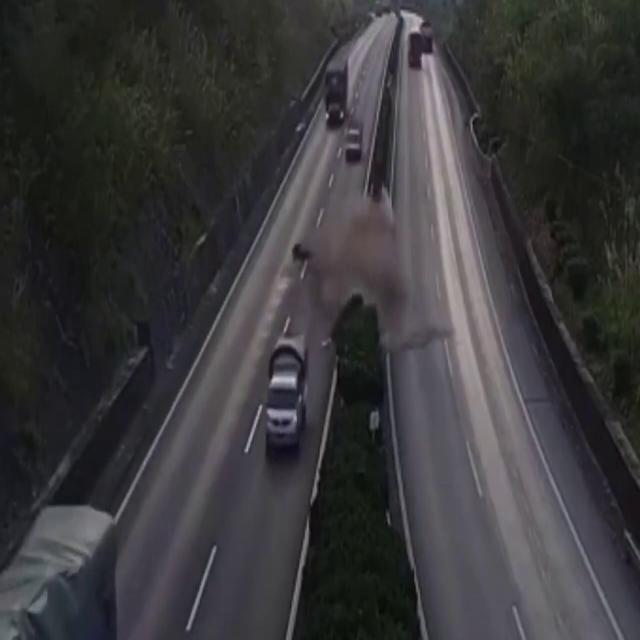normal: (230, 300, 347, 503), (292, 30, 370, 173)
single accident: (290, 168, 452, 338)
